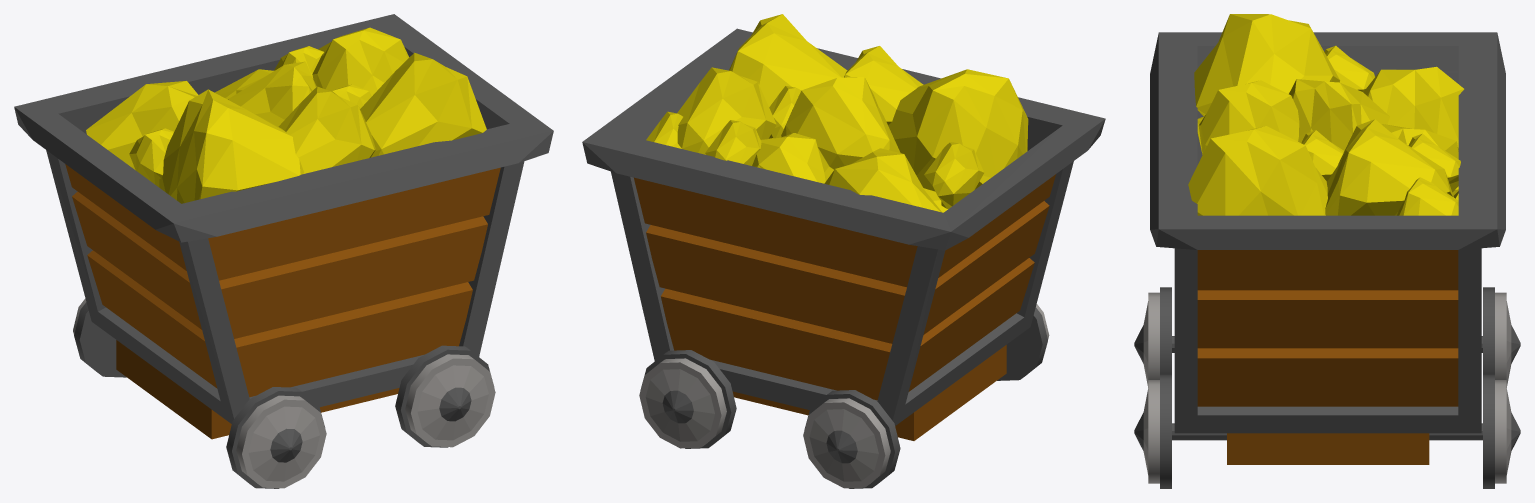
File: MinecartGold.fbx
3 renders of one model, left to right at view 1: azimuth 30°, elevation 25°; view 2: azimuth 150°, elevation 25°; view 3: azimuth 270°, elevation 25°, orthographic. The views are drawn at different scales.
Visible parts, largest first — view 1: Box427; view 2: Box427; view 3: Box427.
Boxes of the visible parts, left/top/right/bottom form: Box427: left=14, top=14, right=553, bottom=488; Box427: left=582, top=14, right=1105, bottom=488; Box427: left=1134, top=14, right=1520, bottom=488.
Size of the model in its own units: 64.06 by 57 by 53.14.
